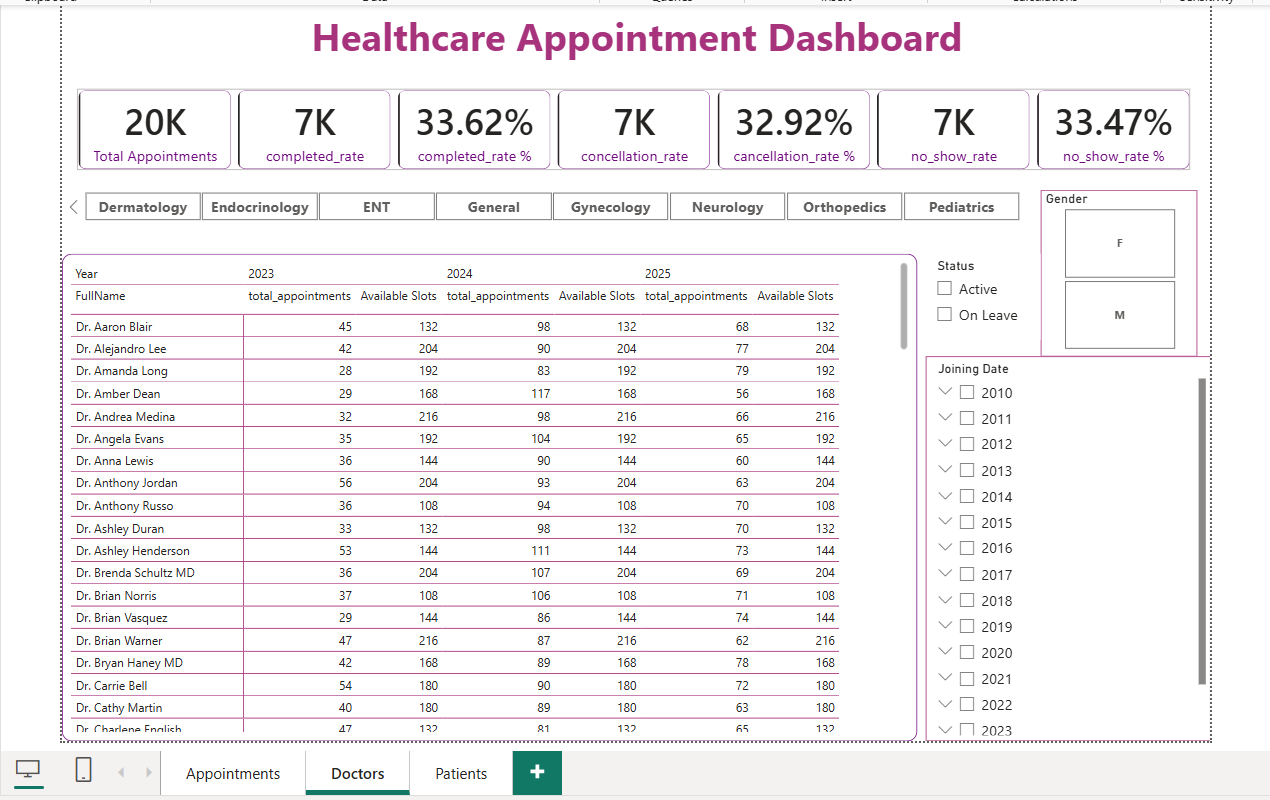

Layout of this report page (visuals, bound fields, positions):
{"tool":"powerbi","page":{"name":"Doctors ","canvas":[1280,820],"ordinal":1},"visuals":[{"type":"cardVisual","fields":{"Data":["appointments.total_appointments","appointments.completed_rate","appointments.completed_rate %","appointments.concellation_rate","appointments.cancellation_rate %","appointments.no_show_rate","appointments.no_show_rate %"]},"box":[0,76.6,1280,124.7],"z":0},{"type":"slicer","fields":{"Values":["appointments.Department"]},"box":[0,201.9,1090.5,44.6],"z":3000},{"type":"slicer","title":"Gender","fields":{"Values":["doctors.Gender"]},"box":[1090.5,206.1,174.1,185.2],"z":6000},{"type":"textbox","box":[141.4,0,997.2,76.6],"z":8000},{"type":"pivotTable","fields":{"Values":["appointments.total_appointments","doctors.Available Slots"],"Rows":["doctors.FullName"],"Columns":["appointments.AppointmentDateTime.Variation.Date Hierarchy.Year","appointments.AppointmentDateTime.Variation.Date Hierarchy.Month"]},"box":[0,277.1,952.6,543.1],"z":8002},{"type":"slicer","fields":{"Values":["doctors.Status"]},"box":[962.3,277.1,128.1,96.1],"z":8003},{"type":"slicer","fields":{"Values":["doctors.JoiningDate.Variation.Date Hierarchy.Year","doctors.JoiningDate.Variation.Date Hierarchy.Quarter","doctors.JoiningDate.Variation.Date Hierarchy.Month","doctors.JoiningDate.Variation.Date Hierarchy.Day"]},"box":[962.3,391.3,317.5,428.9],"z":8004}]}

Visuals, with their boxes on the page's 1280x820 design canvas (x1, y1, x2, y2). These are canvas units, not pixel positions in the 1270x800 screenshot, which may show the page scaled, cropped or inside an application window:
cardVisual - appointments.total_appointments x appointments.completed_rate: {"left": 0, "top": 77, "right": 1280, "bottom": 201}
slicer - appointments.Department: {"left": 0, "top": 202, "right": 1090, "bottom": 246}
"Gender" slicer: {"left": 1090, "top": 206, "right": 1265, "bottom": 391}
textbox: {"left": 141, "top": 0, "right": 1139, "bottom": 77}
pivotTable - appointments.total_appointments x doctors.Available Slots: {"left": 0, "top": 277, "right": 953, "bottom": 820}
slicer - doctors.Status: {"left": 962, "top": 277, "right": 1090, "bottom": 373}
slicer - doctors.JoiningDate.Variation.Date Hierarchy.Year x doctors.JoiningDate.Variation.Date Hierarchy.Quarter: {"left": 962, "top": 391, "right": 1280, "bottom": 820}
